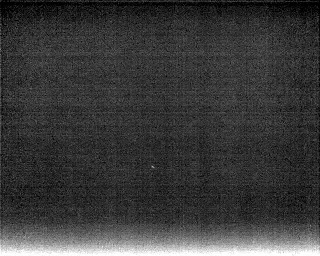BIRD: (149, 163, 157, 173)
